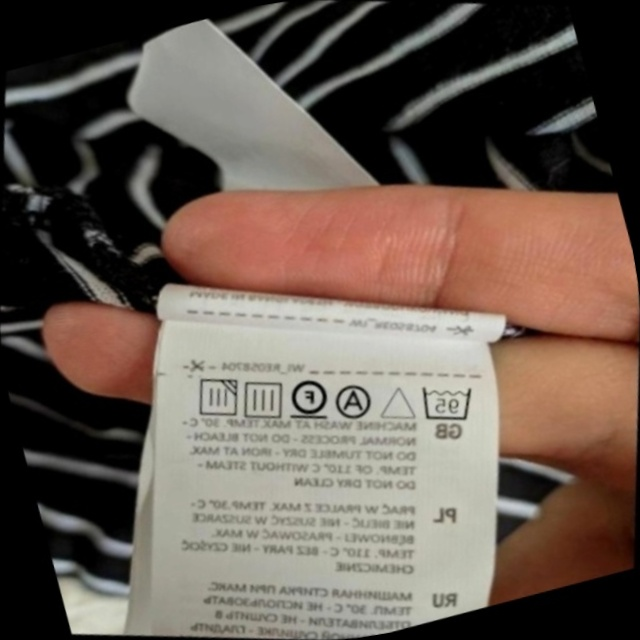95C: (403, 363, 489, 442)
bleach: (366, 368, 431, 436)
drip_dry: (226, 362, 301, 436)
drip_dry_in_shade: (177, 359, 254, 436)
dry_clean: (322, 369, 387, 434)
dry_clean_petrol_only: (273, 360, 345, 435)
